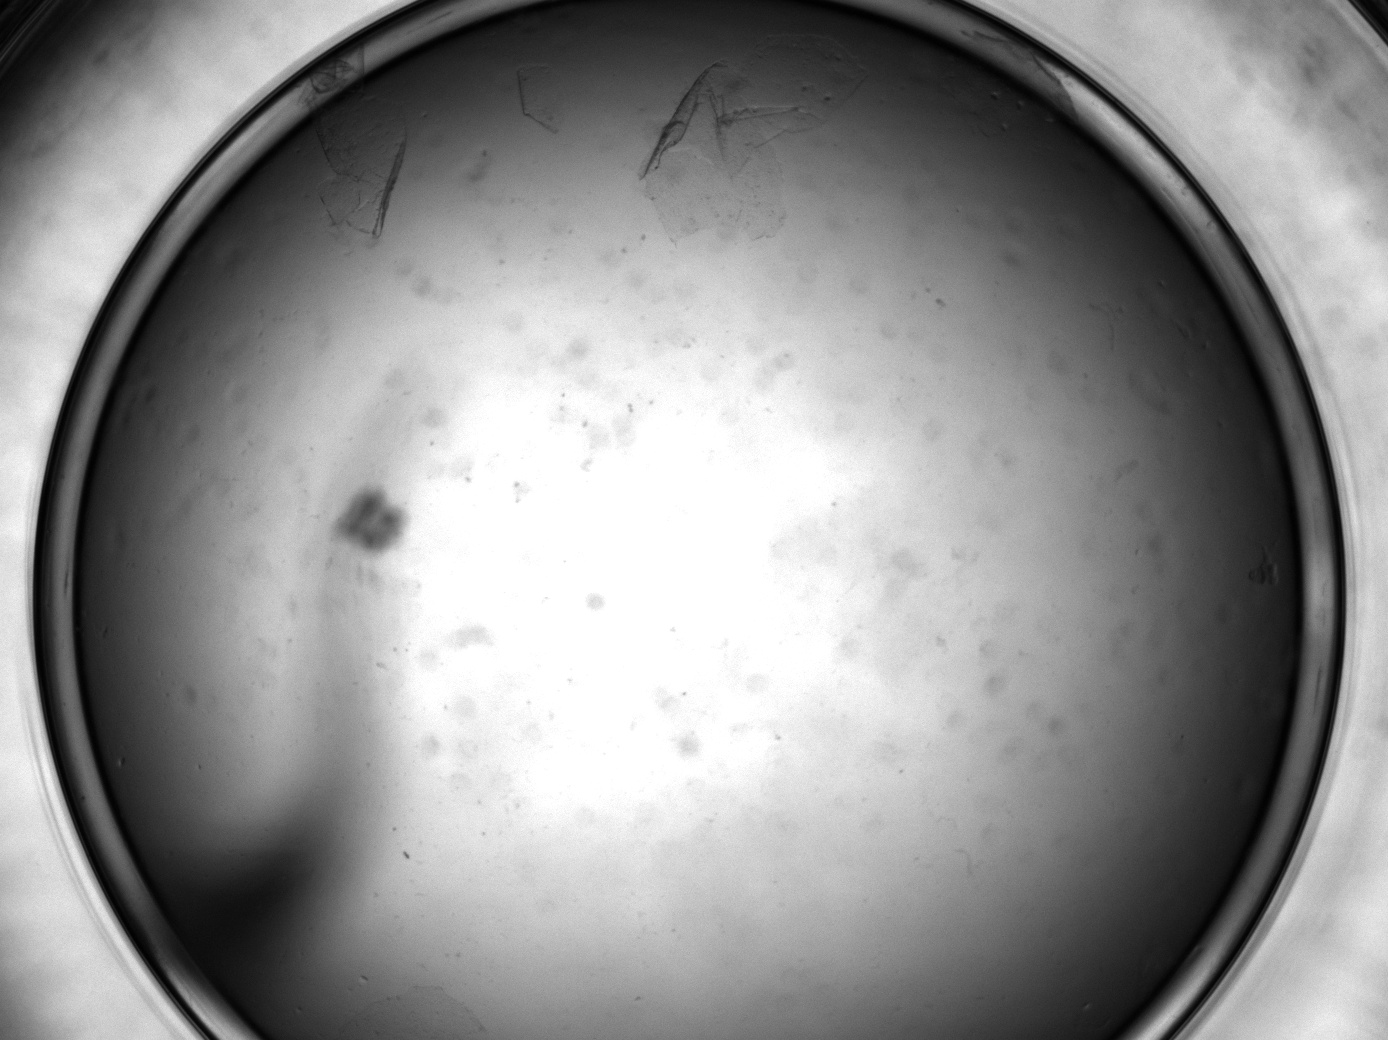debris: (642, 43, 870, 243), (296, 35, 410, 241)
